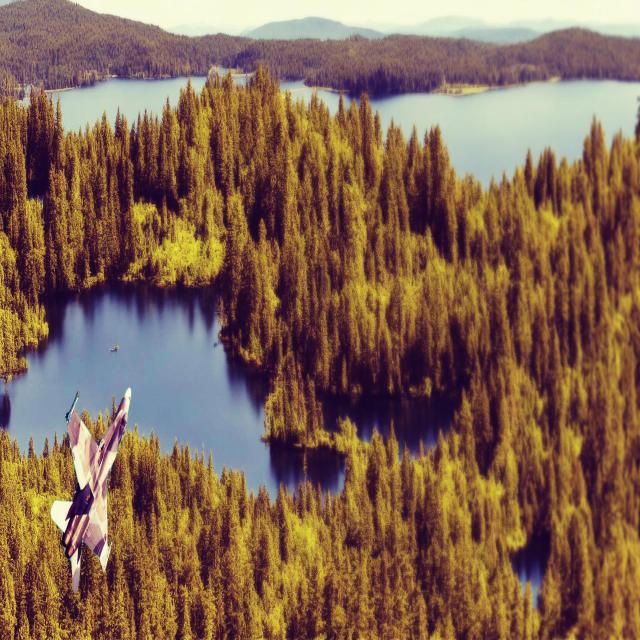airplane: (50, 386, 132, 593)
